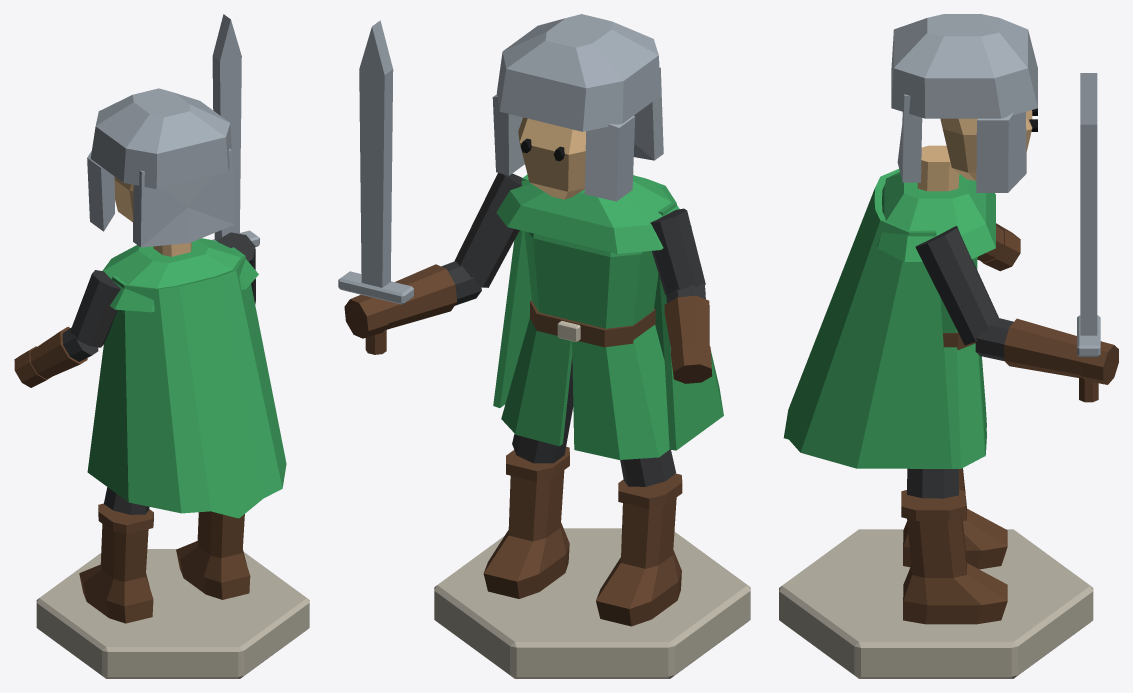
Rendered from human_soldier_t2.glb.
3 renders of one model, left to right at view 1: azimuth 30°, elevation 25°; view 2: azimuth 150°, elevation 25°; view 3: azimuth 270°, elevation 25°, orthographic. The views are drawn at different scales.
Parts seen in each view (by area): view 1: soldier_Wrapped_Back_Cape, Foundation_Hexagonal_Stone, helmet, helmet_back, Continuous_Shoulder_Mantle, Boot_-1, Boot_1, sword_blade, left_upper_sleeve, helmet_cheek_-1, left_bracer, Boot_Cuff_-1 (+5 smaller); view 2: Foundation_Hexagonal_Stone, helmet, Continuous_Tunic_Bodice, Continuous_Shoulder_Mantle, sword_blade, Continuous_Split_Tunic_Skirt, soldier_Wrapped_Back_Cape, Boot_1, Boot_-1, Split_Tunic_Front_1, Split_Tunic_Front_-1, Angular_Face (+16 smaller); view 3: soldier_Wrapped_Back_Cape, Foundation_Hexagonal_Stone, helmet, Boot_1, Continuous_Shoulder_Mantle, right_upper_sleeve, sword_blade, Continuous_Split_Tunic_Skirt, helmet_cheek_1, right_bracer, Boot_-1, Angular_Face (+8 smaller).
Part boxes in pixels (left/top/right/bottom): soldier_Wrapped_Back_Cape: left=87, top=247, right=286, bottom=518; Foundation_Hexagonal_Stone: left=36, top=549, right=309, bottom=678; helmet: left=90, top=88, right=231, bottom=188; helmet_back: left=133, top=148, right=234, bottom=247; Continuous_Shoulder_Mantle: left=102, top=238, right=258, bottom=312; Boot_-1: left=79, top=524, right=153, bottom=623; Boot_1: left=176, top=511, right=250, bottom=599; sword_blade: left=212, top=14, right=241, bottom=240; left_upper_sleeve: left=70, top=270, right=120, bottom=347; helmet_cheek_-1: left=87, top=150, right=114, bottom=231; left_bracer: left=30, top=327, right=87, bottom=378; Boot_Cuff_-1: left=98, top=503, right=153, bottom=534; Foundation_Hexagonal_Stone: left=434, top=528, right=750, bottom=678; helmet: left=497, top=14, right=660, bottom=131; Continuous_Tunic_Bodice: left=524, top=231, right=658, bottom=328; Continuous_Shoulder_Mantle: left=496, top=175, right=691, bottom=253; sword_blade: left=359, top=20, right=393, bottom=287; Continuous_Split_Tunic_Skirt: left=501, top=318, right=669, bottom=459; soldier_Wrapped_Back_Cape: left=493, top=174, right=723, bottom=450; Boot_1: left=483, top=470, right=569, bottom=598; Boot_-1: left=596, top=497, right=681, bottom=626; Split_Tunic_Front_1: left=515, top=331, right=572, bottom=446; Split_Tunic_Front_-1: left=572, top=341, right=620, bottom=459; Angular_Face: left=518, top=117, right=585, bottom=199; soldier_Wrapped_Back_Cape: left=783, top=169, right=951, bottom=468; Foundation_Hexagonal_Stone: left=779, top=529, right=1093, bottom=678; helmet: left=891, top=14, right=1037, bottom=118; Boot_1: left=903, top=518, right=1007, bottom=624; Continuous_Shoulder_Mantle: left=877, top=172, right=995, bottom=261; right_upper_sleeve: left=915, top=226, right=998, bottom=345; sword_blade: left=1080, top=73, right=1097, bottom=335; Continuous_Split_Tunic_Skirt: left=909, top=343, right=984, bottom=468; helmet_cheek_1: left=976, top=112, right=1026, bottom=192; right_bracer: left=1004, top=318, right=1082, bottom=377; Boot_-1: left=903, top=468, right=1007, bottom=569; Angular_Face: left=940, top=110, right=1032, bottom=180.
Bounding box in the file's own units: 1.1 × 2.01 × 1.
